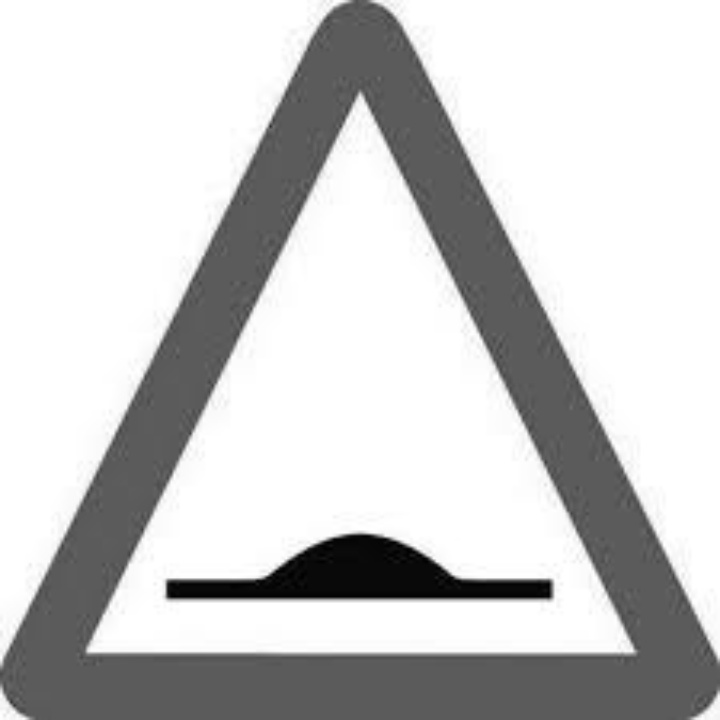bump: (128, 464, 588, 642)
